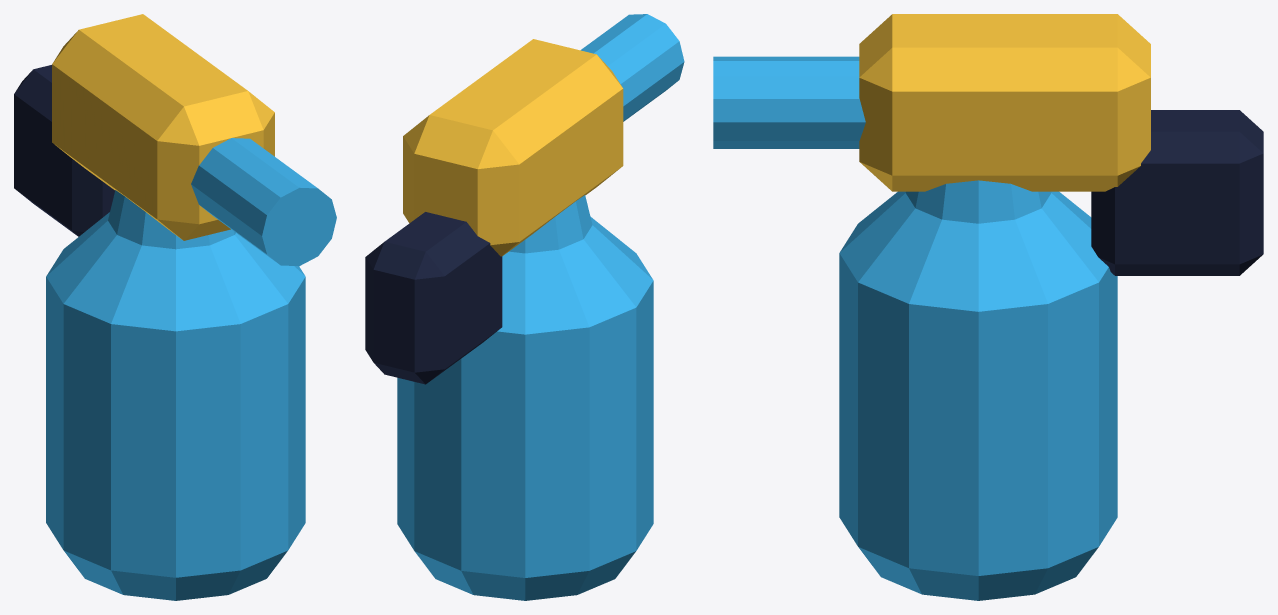
Rendered from T_foam_cannon.glb.
The picture shows the model from 3 angles, left to right: view 1: azimuth 30°, elevation 25°; view 2: azimuth 150°, elevation 25°; view 3: azimuth 270°, elevation 25°; orthographic projection. The views are drawn at different scales.
Visible parts, largest first — view 1: Bottle, MixerHead, Nozzle, Grip; view 2: Bottle, MixerHead, Grip, Nozzle; view 3: Bottle, MixerHead, Grip, Nozzle.
Part boxes in pixels (x1,y1,x2,y2): Bottle: [46, 190, 305, 600]; MixerHead: [52, 14, 274, 240]; Nozzle: [191, 138, 336, 266]; Grip: [14, 65, 114, 236]; Bottle: [397, 195, 653, 600]; MixerHead: [403, 39, 623, 256]; Grip: [365, 212, 502, 384]; Nozzle: [580, 14, 684, 121]; Bottle: [839, 180, 1117, 600]; MixerHead: [859, 14, 1150, 191]; Grip: [1091, 110, 1263, 275]; Nozzle: [713, 56, 865, 148].
Size of the model in its own units: 0.21 by 0.435 by 0.415.
